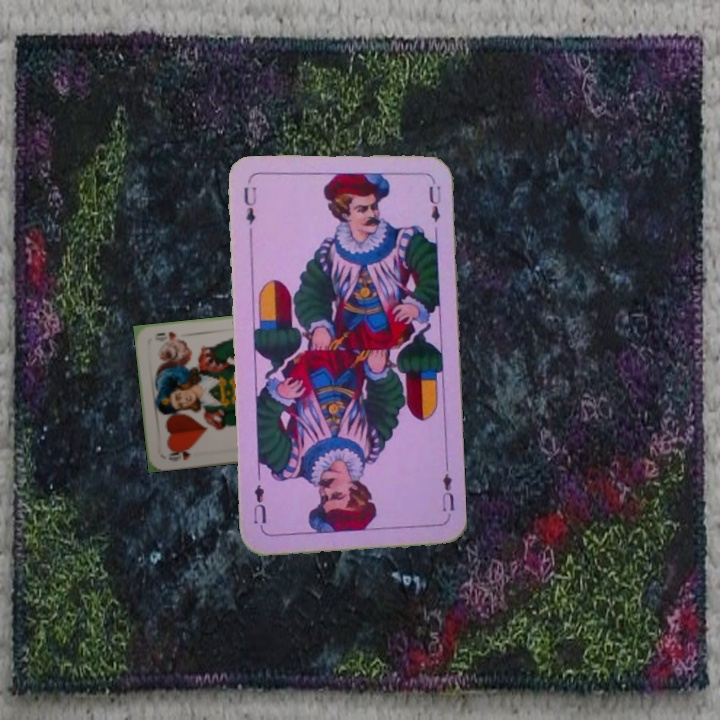EU: (437, 464, 457, 523), (240, 182, 259, 227)
HO: (165, 444, 193, 464)
